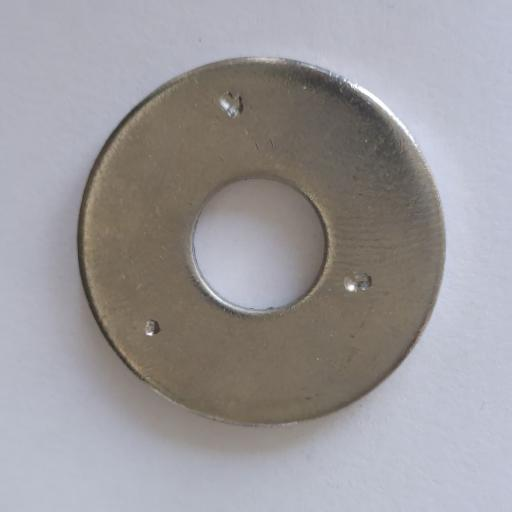circular_cavity: (220, 91, 243, 116), (345, 272, 370, 292), (144, 319, 160, 336)
